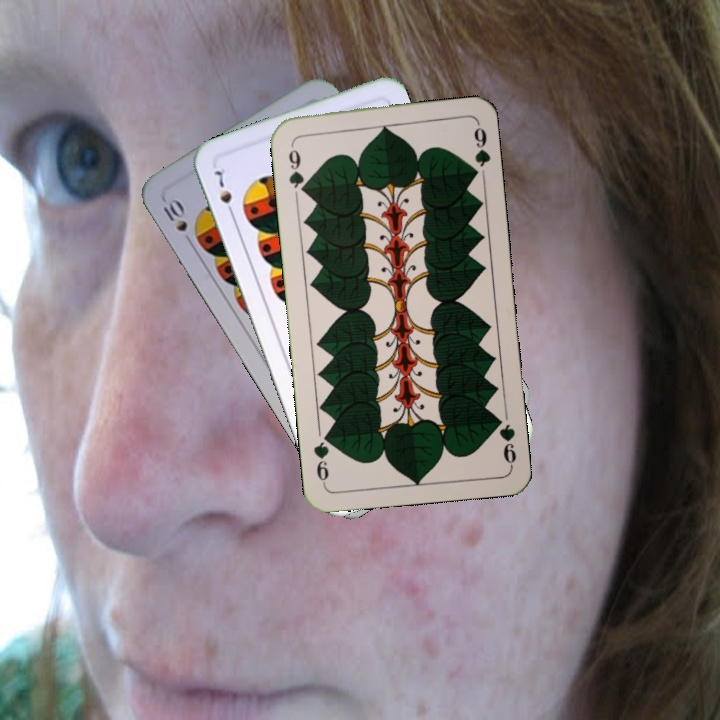G9: (490, 411, 519, 469), (284, 139, 309, 197)
S10: (159, 194, 196, 249)
S7: (210, 163, 237, 220)
